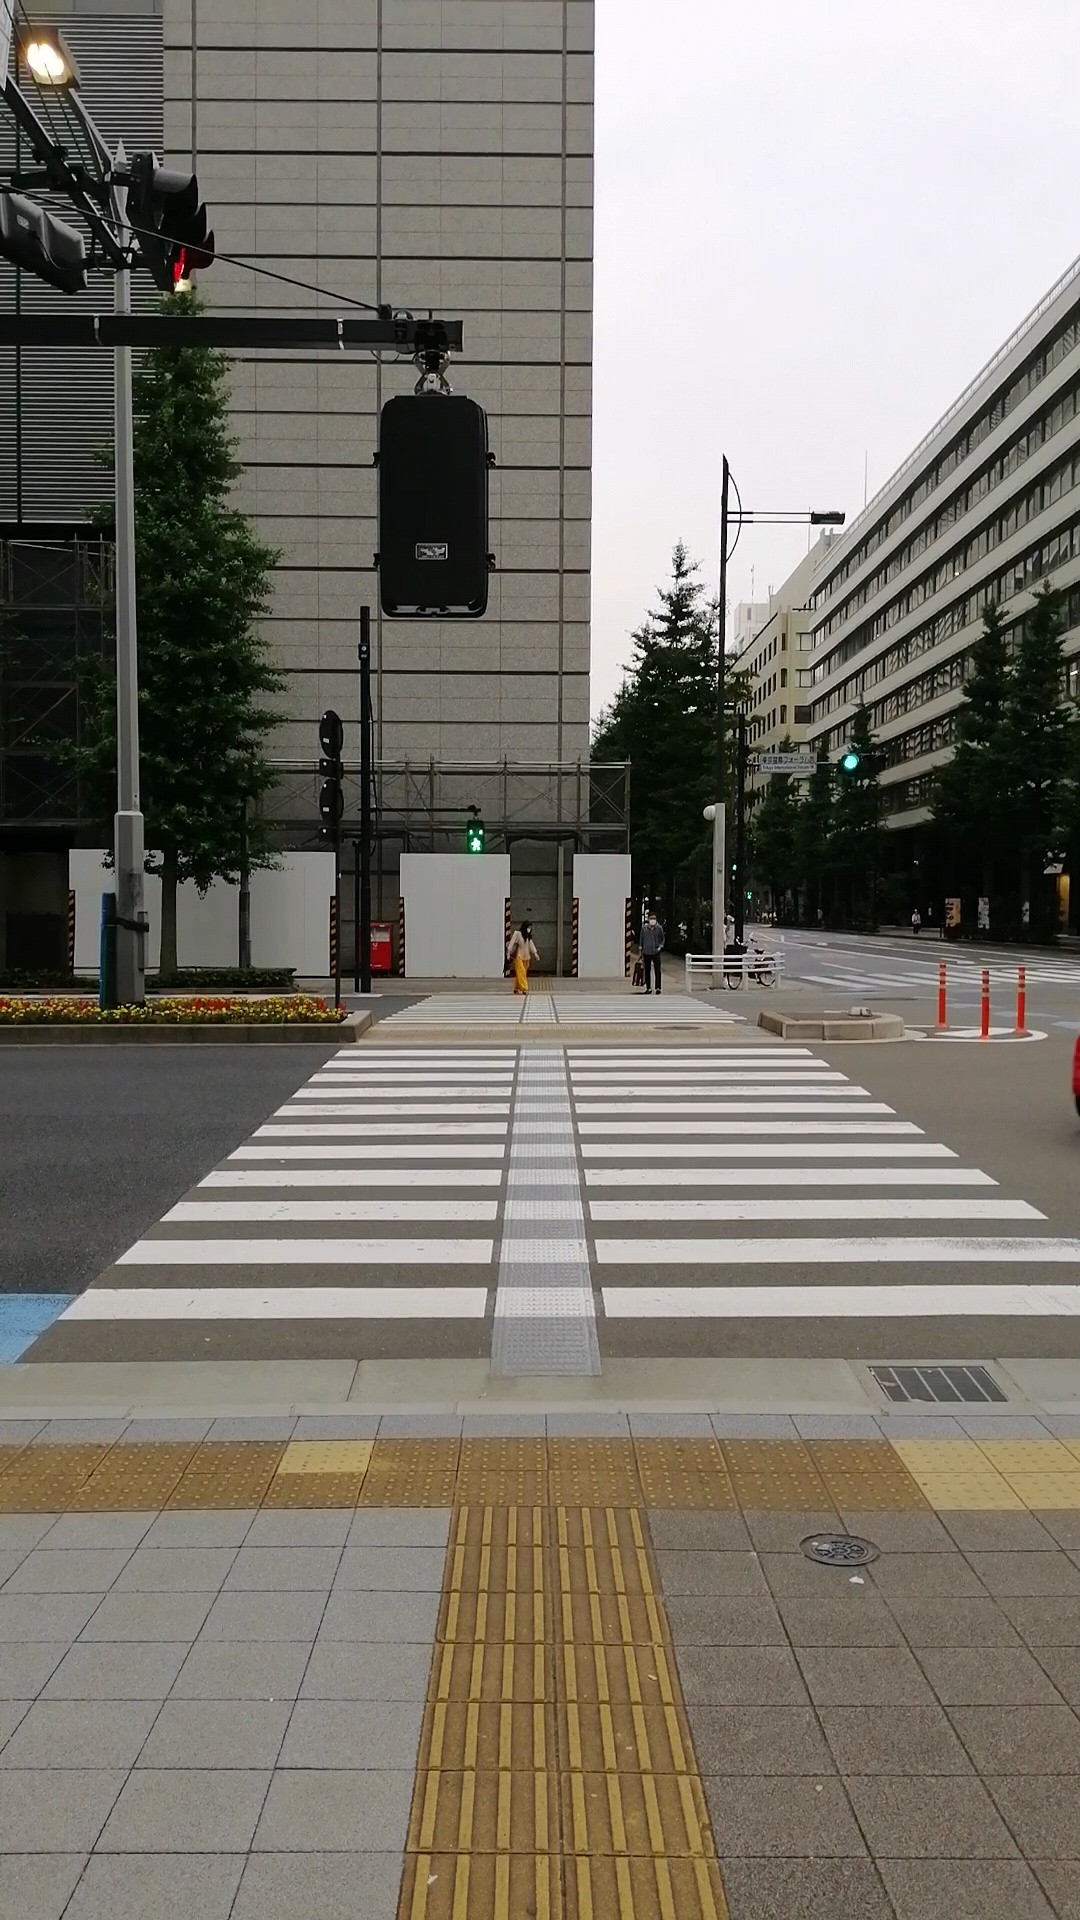green: (465, 818, 487, 855)
